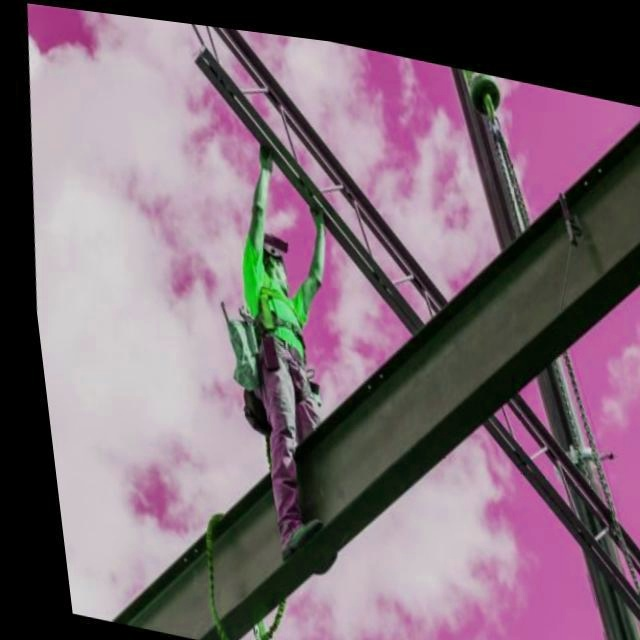safety belt: (236, 262, 336, 402)
